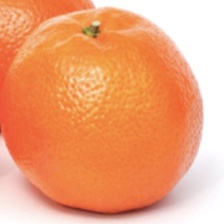orange: (23, 9, 173, 171)
